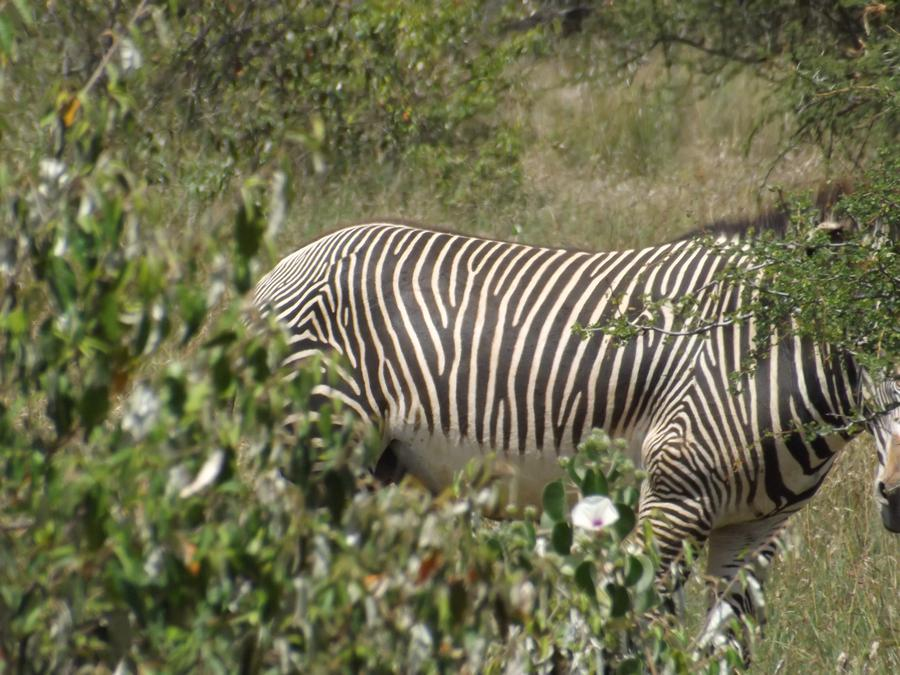zebra_grevys: (249, 190, 765, 523)
